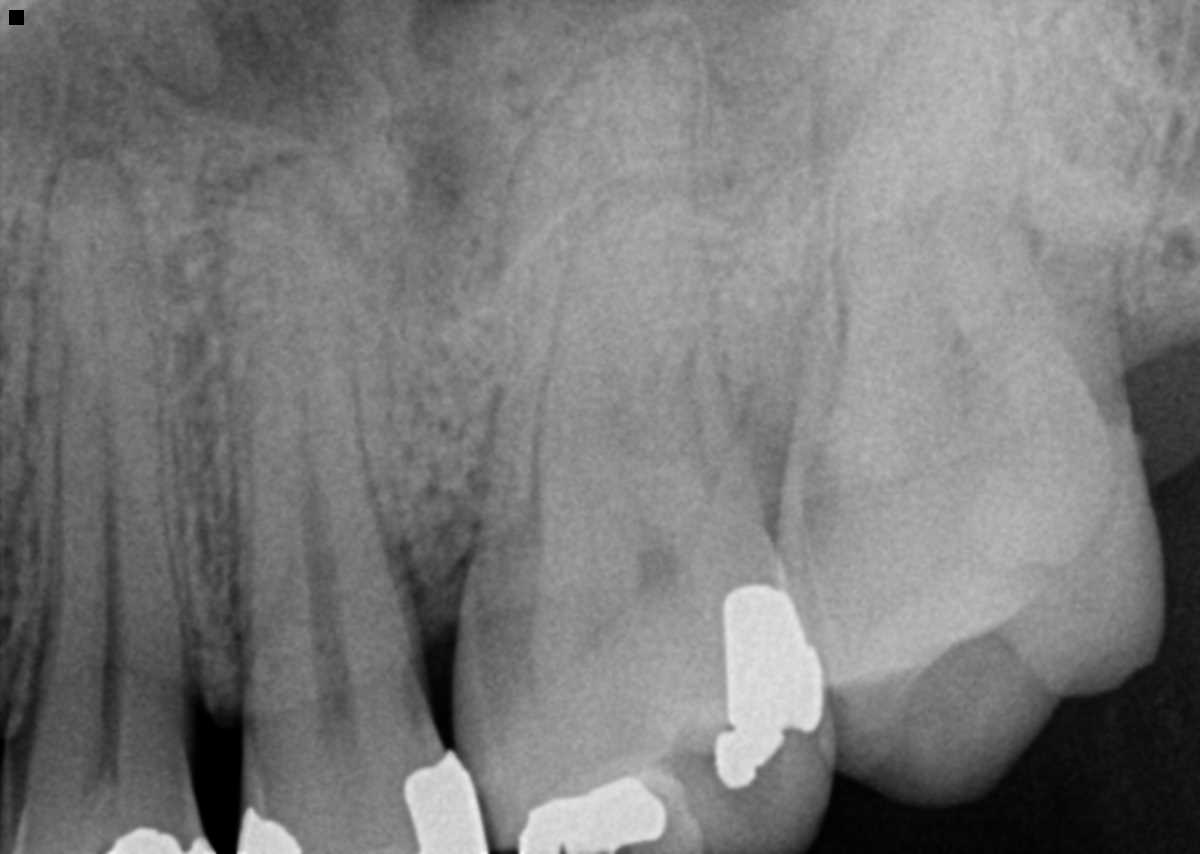Apical Lesion: (189, 92, 411, 326), (42, 129, 147, 203)
Distal Root: (964, 0, 1196, 376), (672, 152, 877, 527)
Main Canal: (295, 326, 354, 677), (86, 252, 130, 695)
Main Root: (225, 158, 422, 692), (27, 153, 198, 704)
Mesial Root: (539, 175, 718, 539), (835, 2, 1015, 358)
Palatal Root: (471, 28, 767, 587), (809, 0, 1097, 454)
